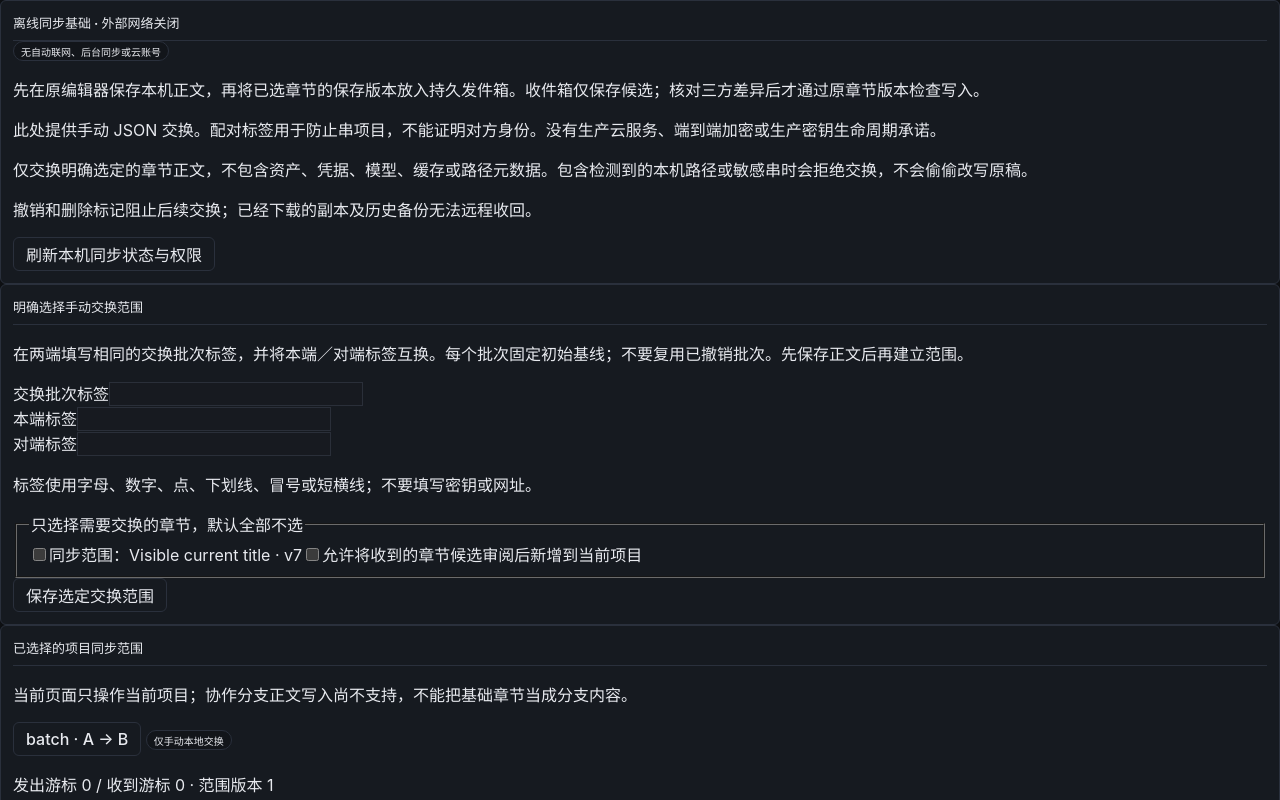
Test: retires a late recovery after the selected record changes or is withdrawn
This screenshot has width=1280, height=800.
What coordinates should you click on to do the following:
click the button "batch · A → B"
I would click on:
 (77, 739)
Its box is 13,722 -> 141,756.
(page scrolled)
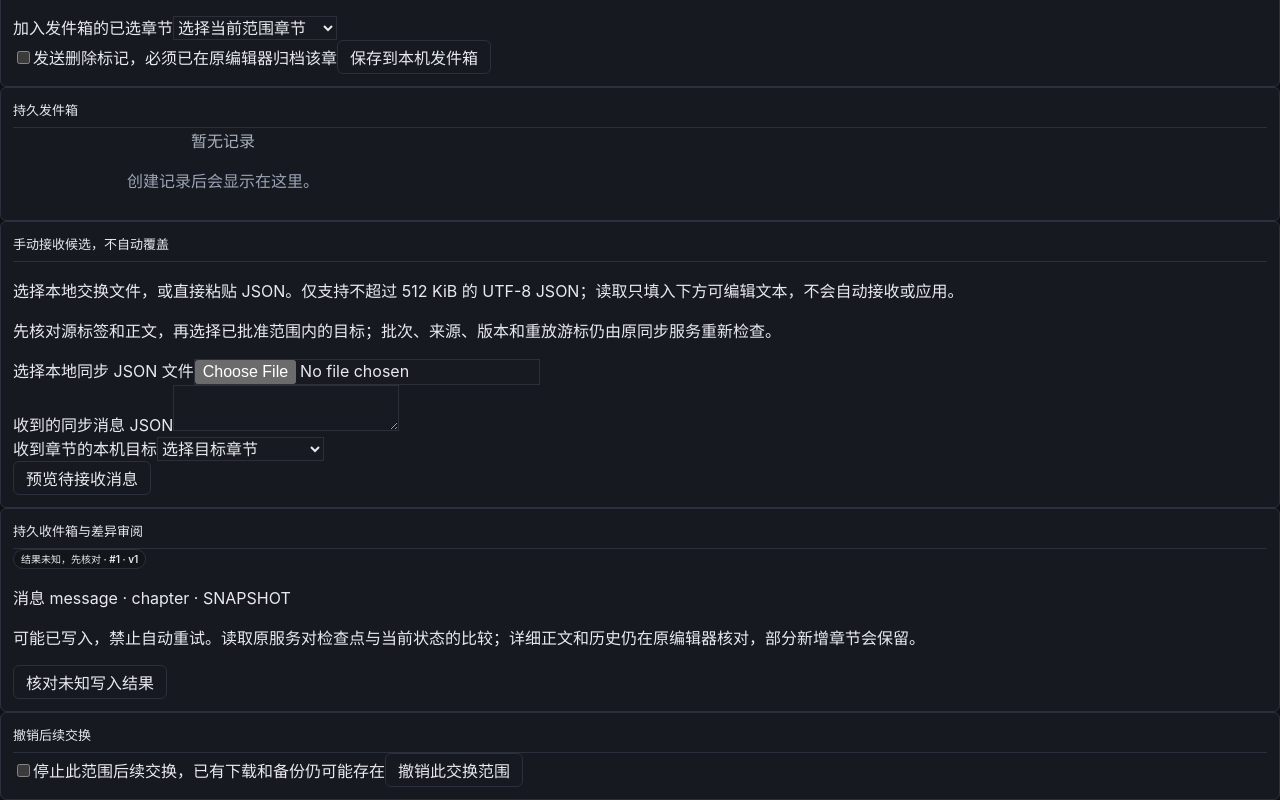
What coordinates should you click on to do the following:
click the button "核对未知写入结果"
I would click on:
 (90, 682)
Its box is 13,665 -> 167,699.
(page scrolled)
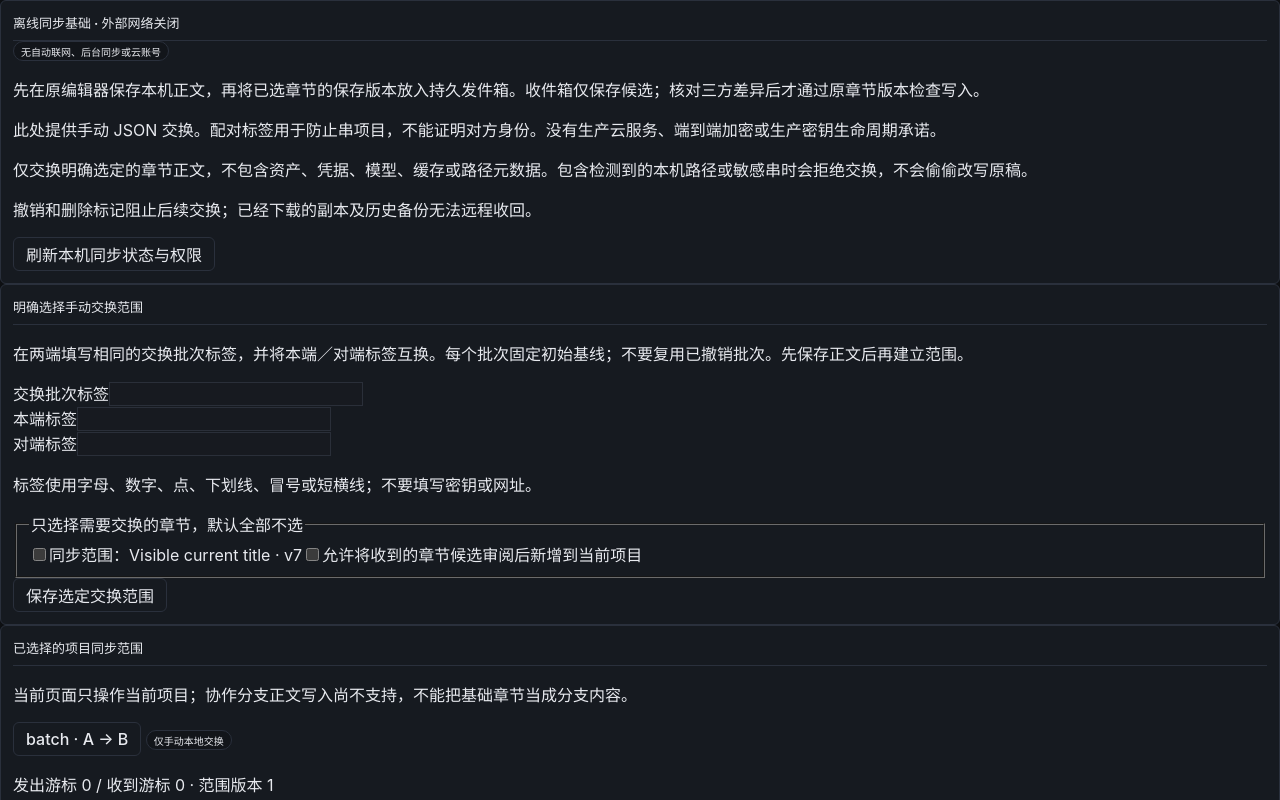
What coordinates should you click on to do the following:
click the button "刷新本机同步状态与权限"
I would click on:
 (114, 254)
Its box is 13,237 -> 215,271.
(page scrolled)
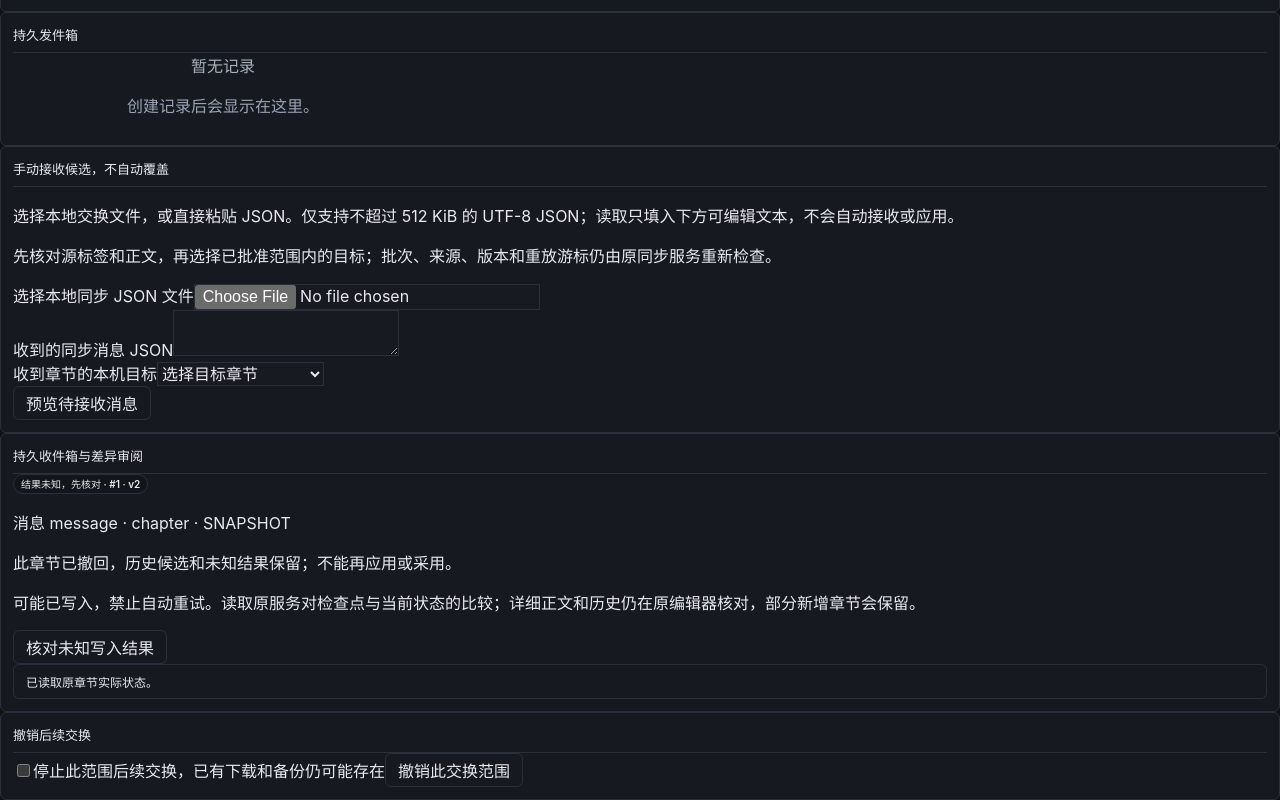
Expected: the text "此章节已撤回，历史候选和未知结果保留；不能再应用或采用。" is shown, 13,553 -> 461,573
